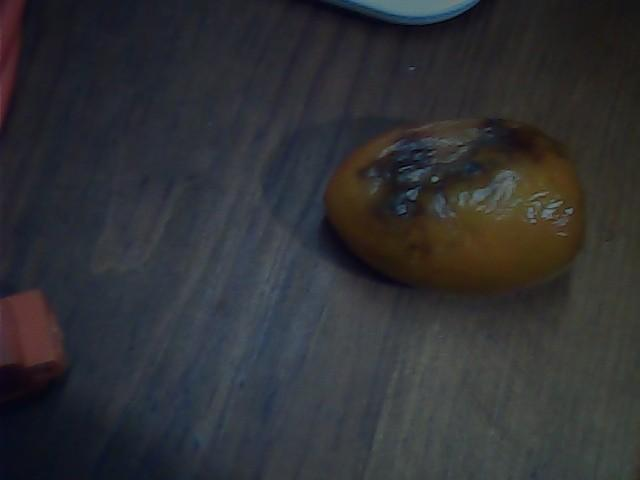defectuoso: (321, 117, 586, 289)
